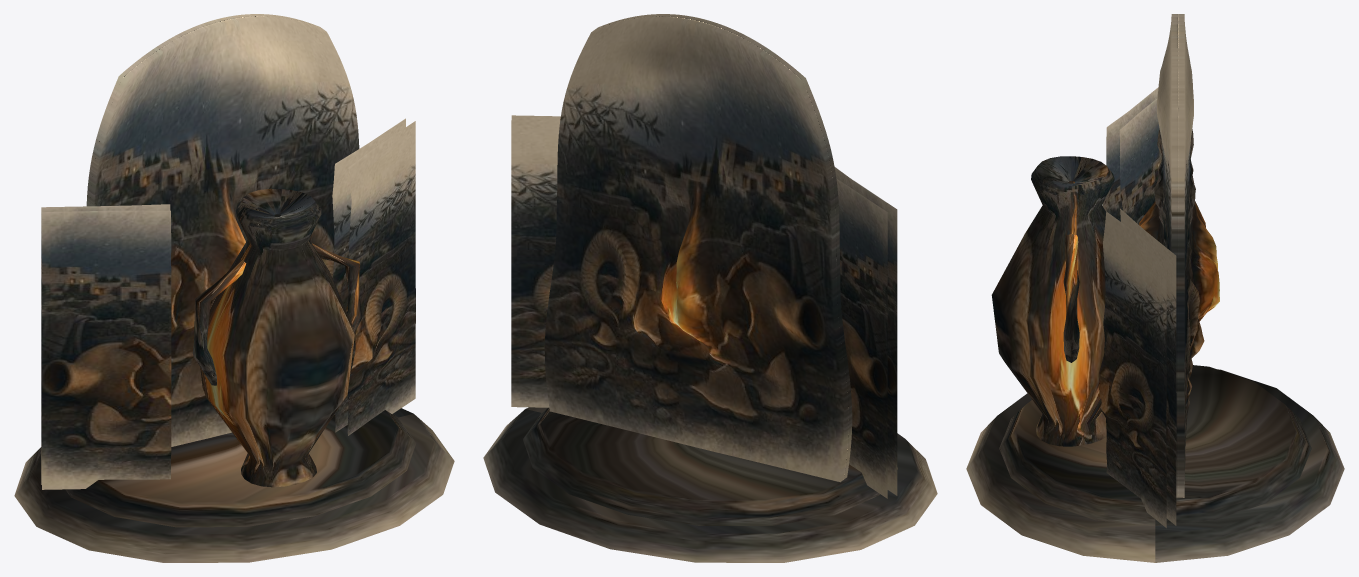
The model's file is gideon-broken-pitcher.glb.
The picture shows the model from 3 angles, left to right: view 1: azimuth 30°, elevation 25°; view 2: azimuth 150°, elevation 25°; view 3: azimuth 270°, elevation 25°; orthographic projection. The views are drawn at different scales.
Parts seen in each view (by area): view 1: PaintingSculptureMonument; view 2: PaintingSculptureMonument; view 3: PaintingSculptureMonument.
Part boxes in pixels (left/top/right/bottom): PaintingSculptureMonument: left=14, top=14, right=454, bottom=562; PaintingSculptureMonument: left=483, top=14, right=937, bottom=562; PaintingSculptureMonument: left=966, top=14, right=1344, bottom=562.
Bounding box in the file's own units: 2.76 × 2.99 × 2.35.
1 material, 1 textured.
